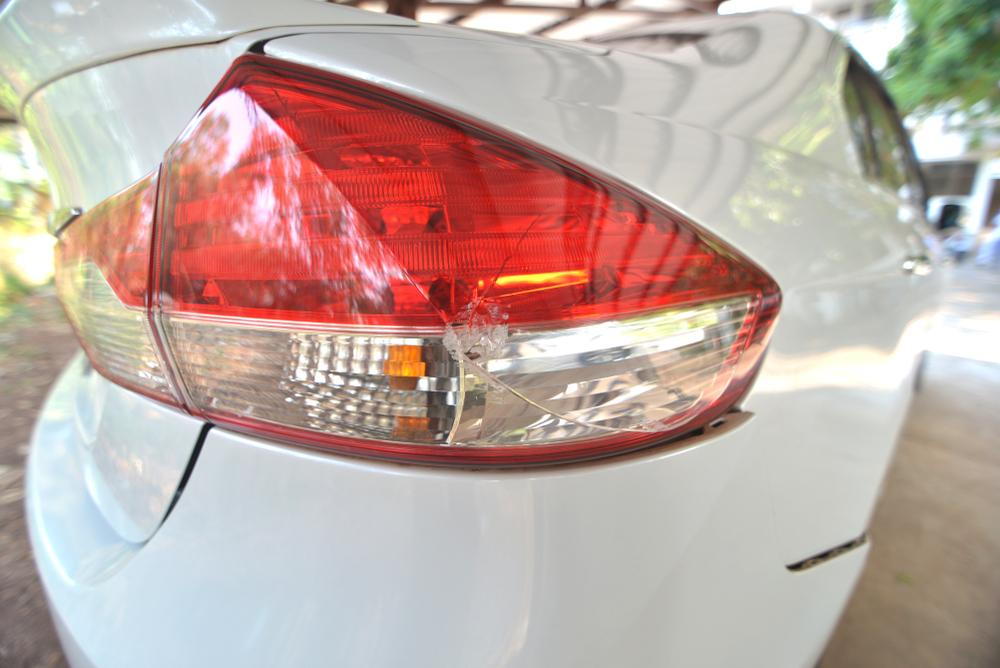lamp broken: (150, 52, 781, 469)
